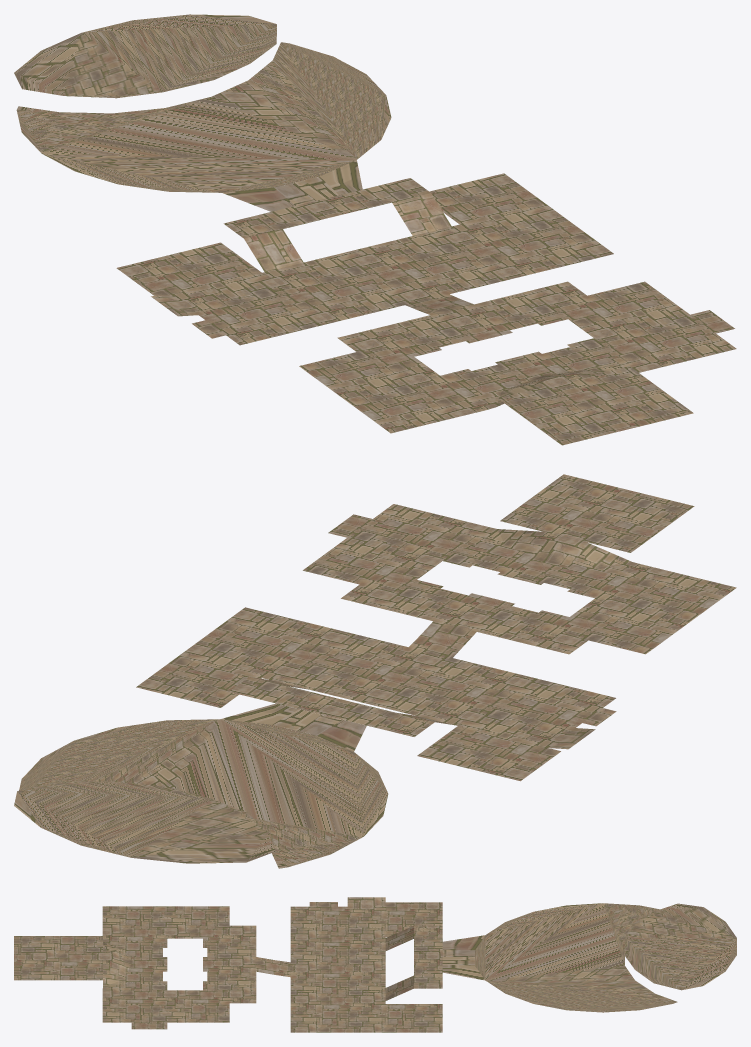
File: Recast_Forbidden_Temple_Alpha2.FBX
3 renders of one model, top to bottom at view 1: azimuth 30°, elevation 25°; view 2: azimuth 150°, elevation 25°; view 3: azimuth 270°, elevation 25°, orthographic. The views are drawn at different scales.
Visible parts, largest first — view 1: 0_Recast; view 2: 0_Recast; view 3: 0_Recast.
Part boxes in pixels (<box>): 0_Recast: <box>14,14,736,445</box>; 0_Recast: <box>14,474,736,868</box>; 0_Recast: <box>14,897,736,1032</box>.
Bounding box in the file's own units: 4476 × 378 × 10137.
